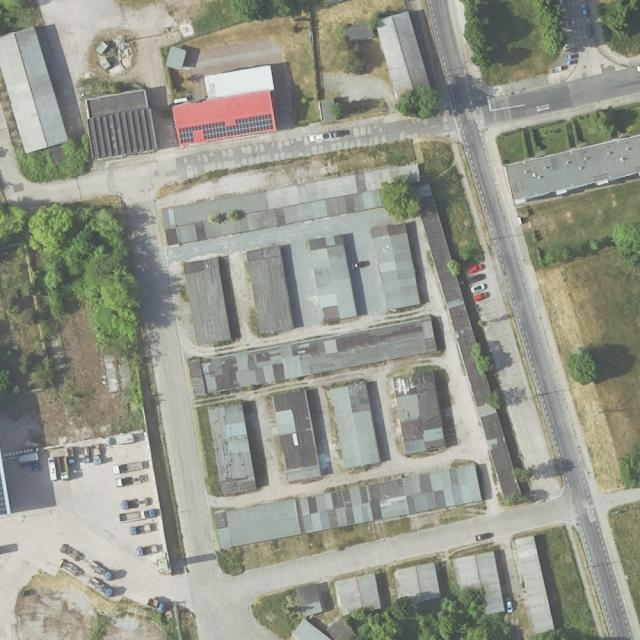PV: (179, 114, 274, 144)
